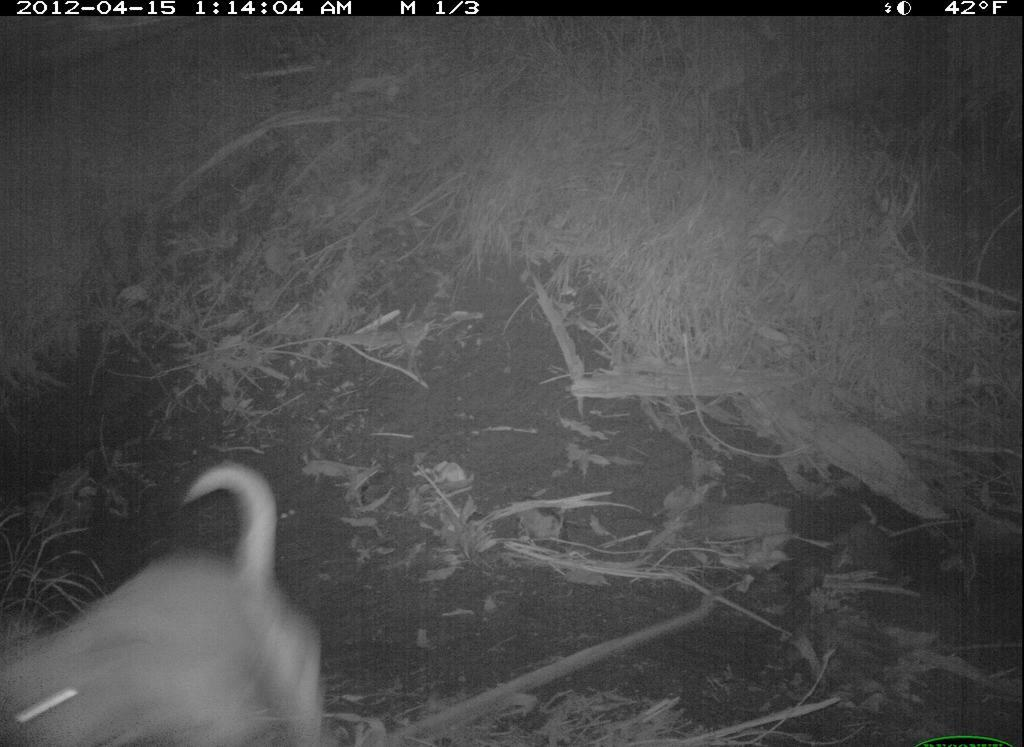dog: (8, 434, 364, 747)
